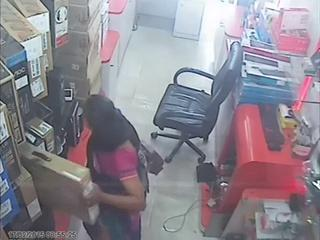shoplifting: (81, 94, 148, 239)
